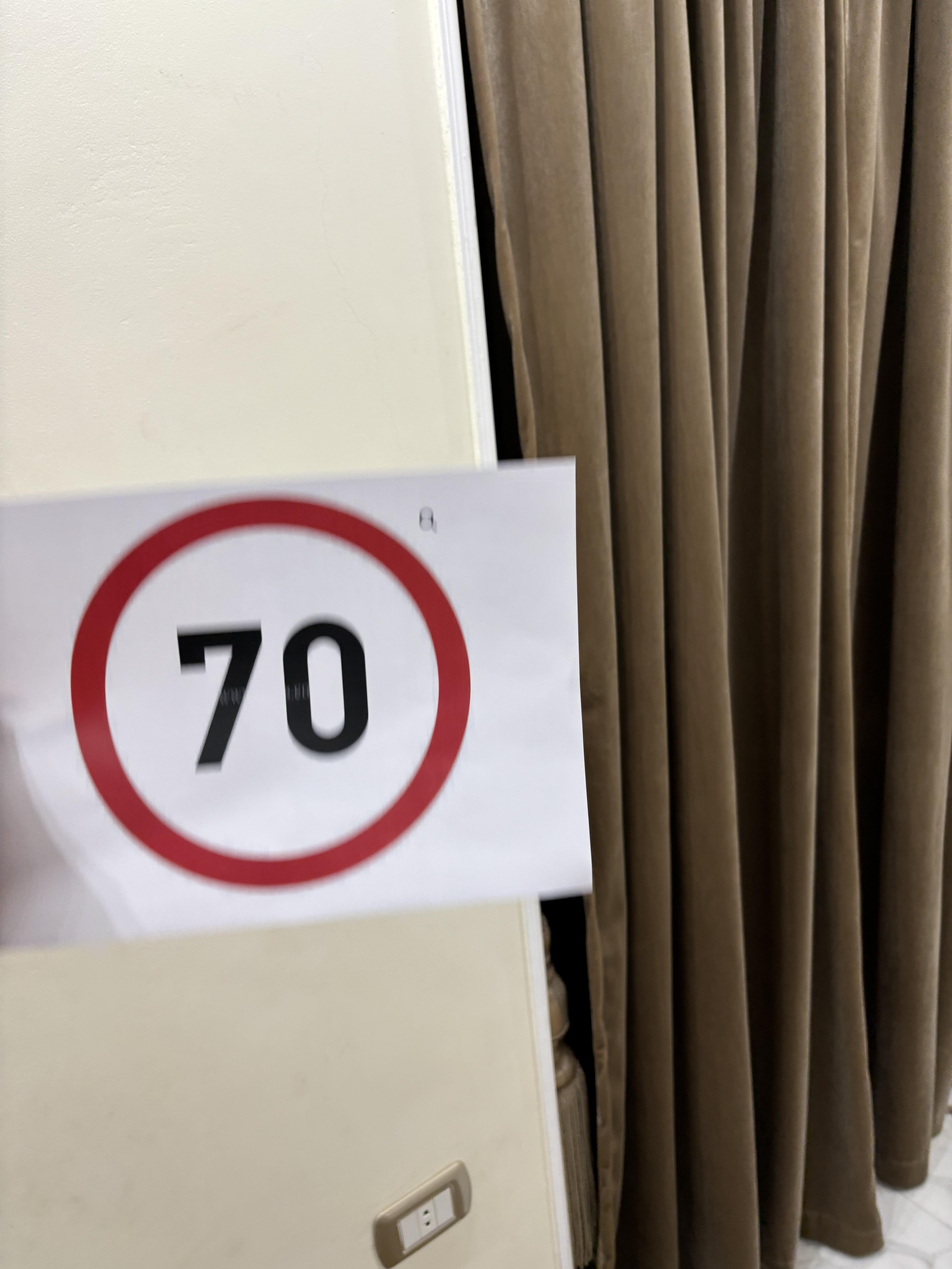70-Speed: (65, 498, 481, 892)
